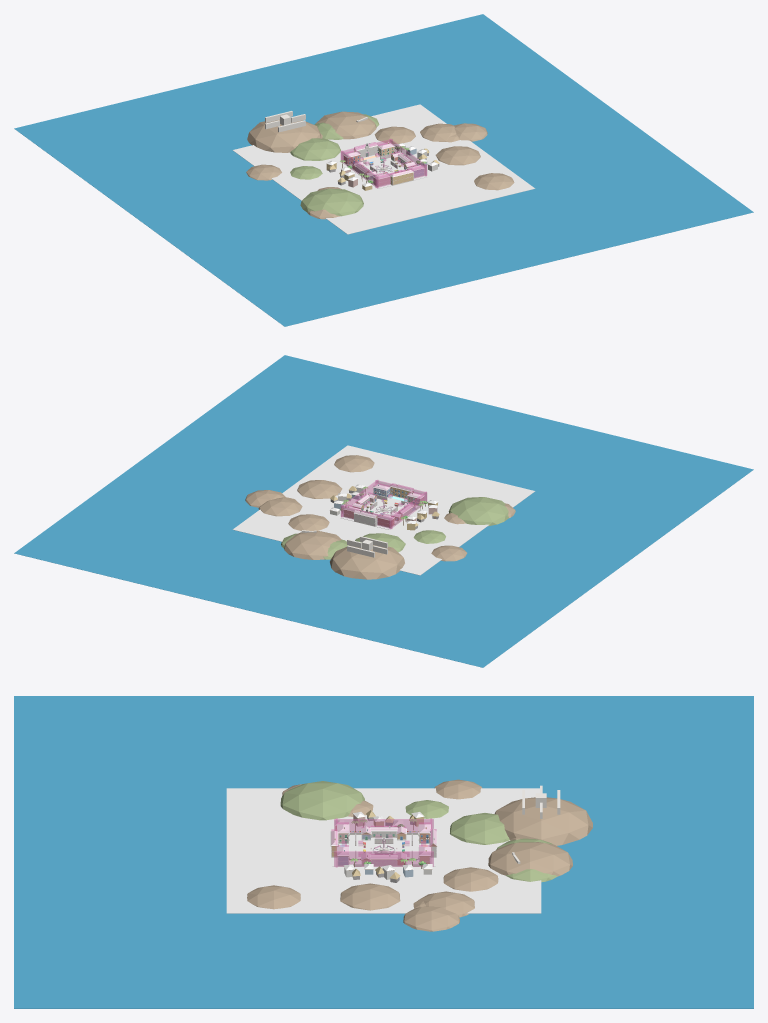
The model's file is CidadeVelha_Static.fbx.
3 renders of one model, top to bottom at view 1: azimuth 30°, elevation 25°; view 2: azimuth 150°, elevation 25°; view 3: azimuth 270°, elevation 25°, orthographic. The views are drawn at different scales.
Parts seen in each view (by area): view 1: BG_Mar, GRD_Terra, BG_Fortaleza, BG_Monte_6, BG_Monte_5, BG_Monte_0, BG_Monte_17, BG_Monte_8, BG_Monte_16; view 2: BG_Mar, GRD_Terra, BG_Fortaleza, BG_Monte_6, BG_Monte_5, BG_Monte_17, BG_Monte_1, BG_Monte_8, BG_Monte_16; view 3: BG_Mar, GRD_Terra, BG_Fortaleza, BG_Monte_6, BG_Monte_5, BG_Monte_0, COL_Box_Limite_E, BG_Monte_17, GRD_Calcada, BG_Monte_7, BG_Monte_8, BG_Monte_16 (+4 smaller).
Part boxes in pixels (box(x1,y1,x2,y2)): BG_Mar: box(14, 14, 753, 326); GRD_Terra: box(232, 104, 535, 234); BG_Fortaleza: box(247, 111, 321, 152); BG_Monte_6: box(300, 188, 363, 216); BG_Monte_5: box(315, 111, 376, 139); BG_Monte_0: box(290, 138, 340, 160); BG_Monte_17: box(435, 146, 480, 165); BG_Monte_8: box(374, 126, 415, 143); BG_Monte_16: box(474, 173, 514, 190); BG_Mar: box(14, 355, 753, 667); GRD_Terra: box(232, 445, 535, 575); BG_Fortaleza: box(330, 536, 404, 579); BG_Monte_6: box(448, 497, 508, 526); BG_Monte_5: box(284, 531, 341, 559); BG_Monte_17: box(297, 480, 342, 498); BG_Monte_1: box(258, 498, 302, 516); BG_Monte_8: box(288, 514, 329, 530); BG_Monte_16: box(334, 455, 374, 472); BG_Mar: box(14, 696, 753, 1008); GRD_Terra: box(226, 788, 541, 913); BG_Fortaleza: box(494, 785, 592, 845); BG_Monte_6: box(280, 781, 364, 820); BG_Monte_5: box(488, 842, 572, 876); BG_Monte_0: box(450, 813, 509, 844); COL_Box_Limite_E: box(334, 851, 433, 866); BG_Monte_17: box(340, 883, 400, 910); GRD_Calcada: box(332, 835, 435, 866); BG_Monte_7: box(403, 906, 459, 931); BG_Monte_8: box(443, 867, 498, 891); BG_Monte_16: box(247, 885, 300, 909).
Size of the model in its own units: 400 by 35.5 by 400.
